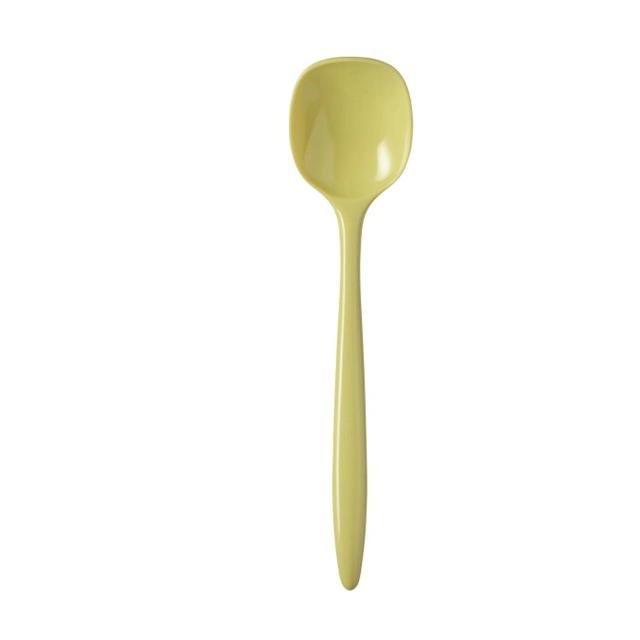spoon: (280, 49, 421, 597)
